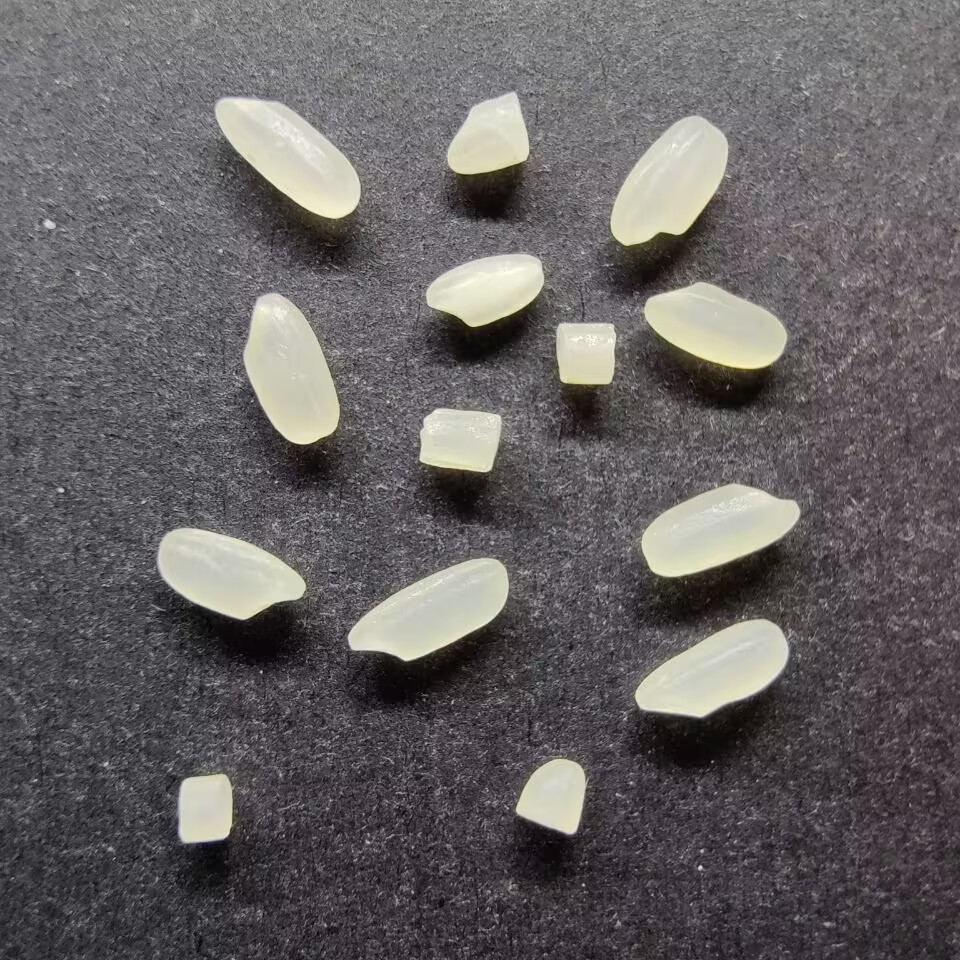broken: (443, 88, 530, 175), (415, 407, 505, 474), (513, 757, 585, 838), (175, 772, 235, 847), (553, 319, 620, 386)
rice: (211, 92, 362, 219), (345, 554, 509, 663), (607, 112, 729, 247), (633, 616, 788, 718), (240, 291, 340, 445), (640, 483, 800, 578), (155, 526, 306, 622), (641, 280, 787, 370), (423, 251, 544, 328)
